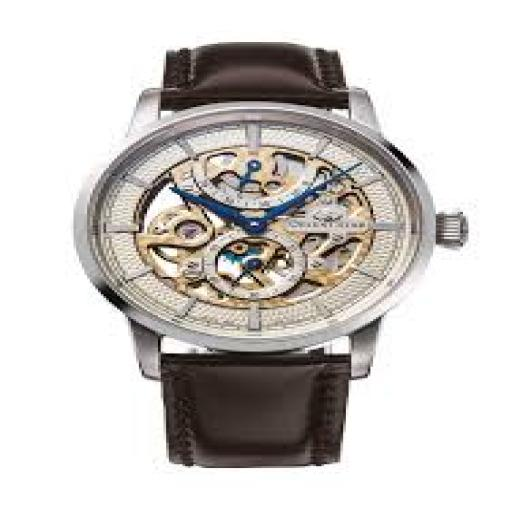KolSaati: (54, 23, 485, 482)
